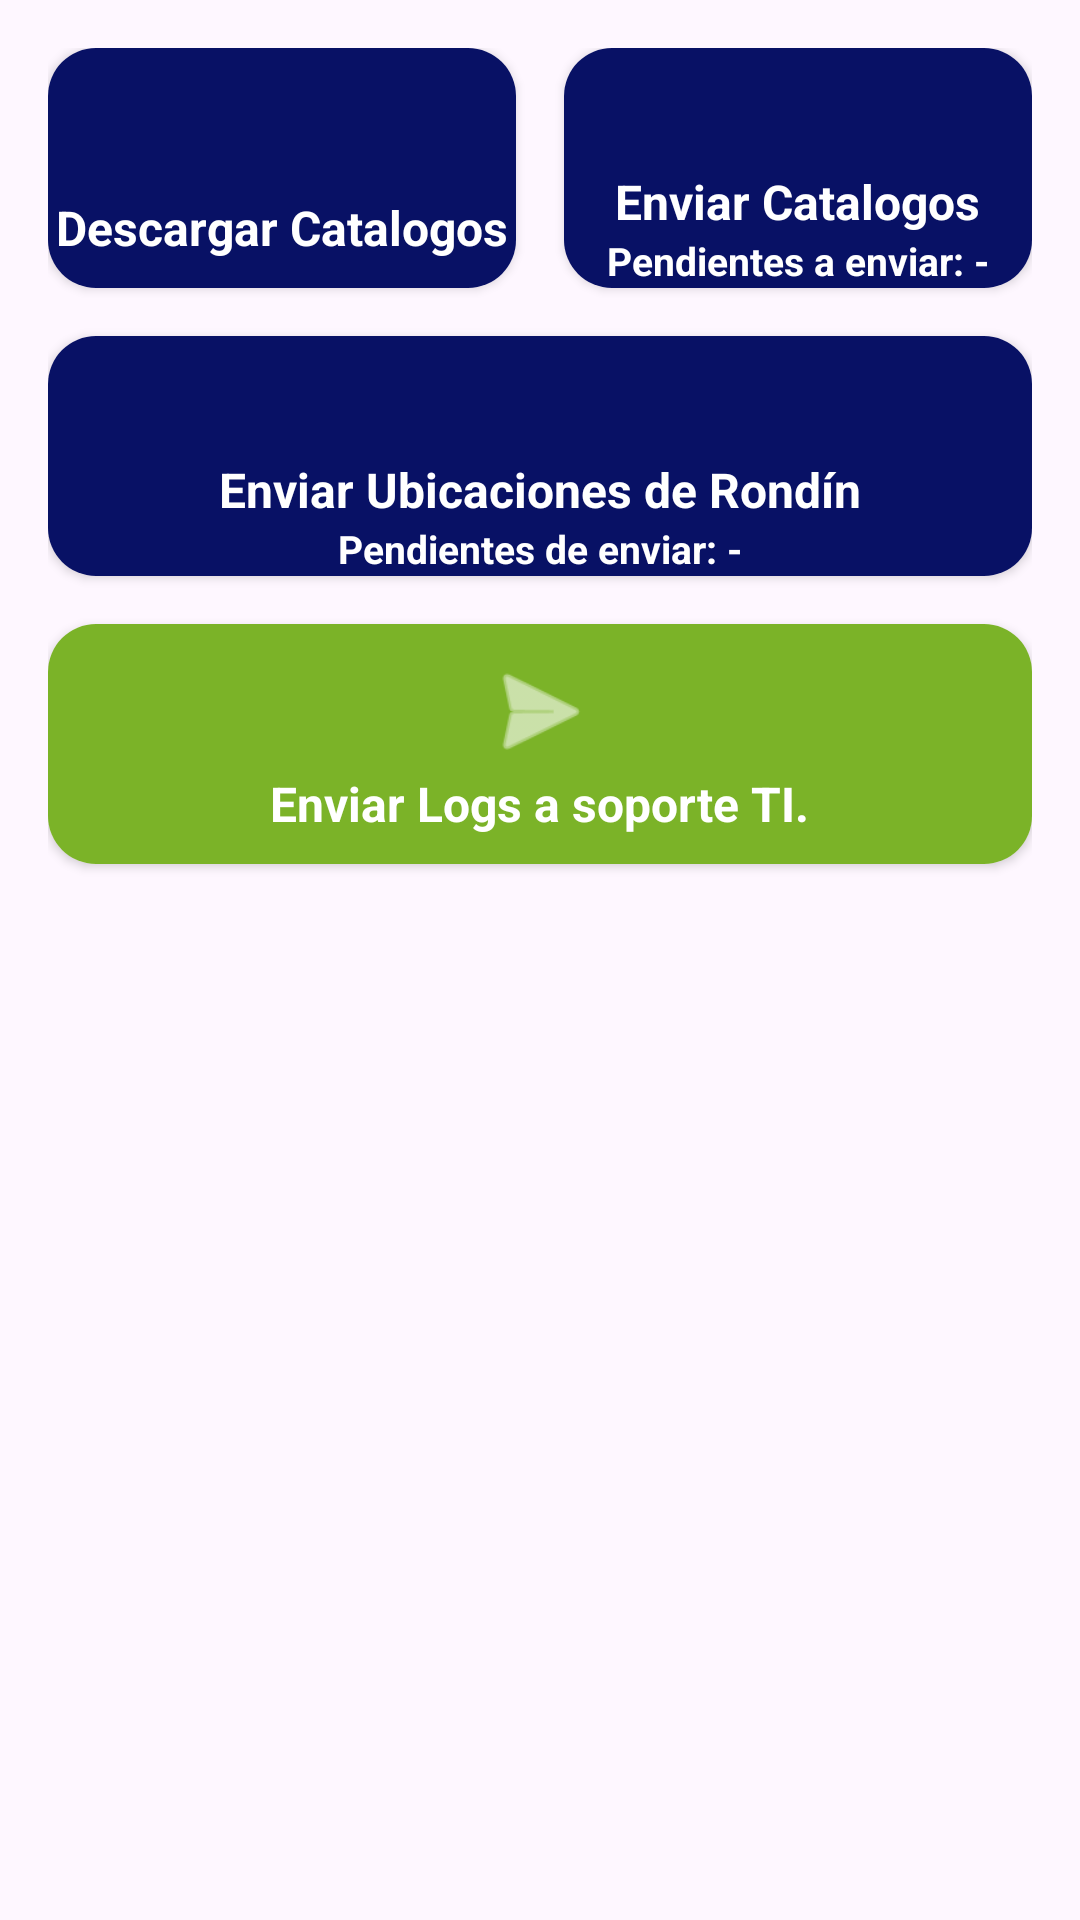

Icon bounding boxes for this 1080 x 1920 phone screenshot, format {"x1": x1, "y1": y1, "x2": x2, "y2": y2}:
send: {"x1": 503, "y1": 674, "x2": 579, "y2": 750}
